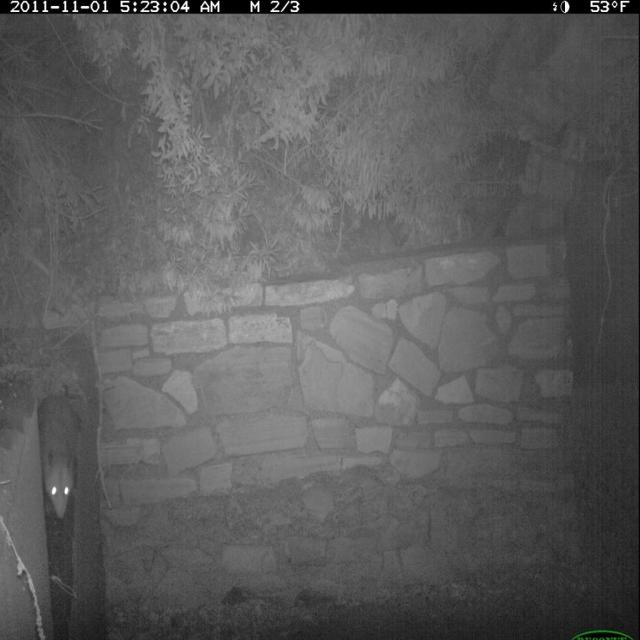opossum: (29, 357, 86, 536)
